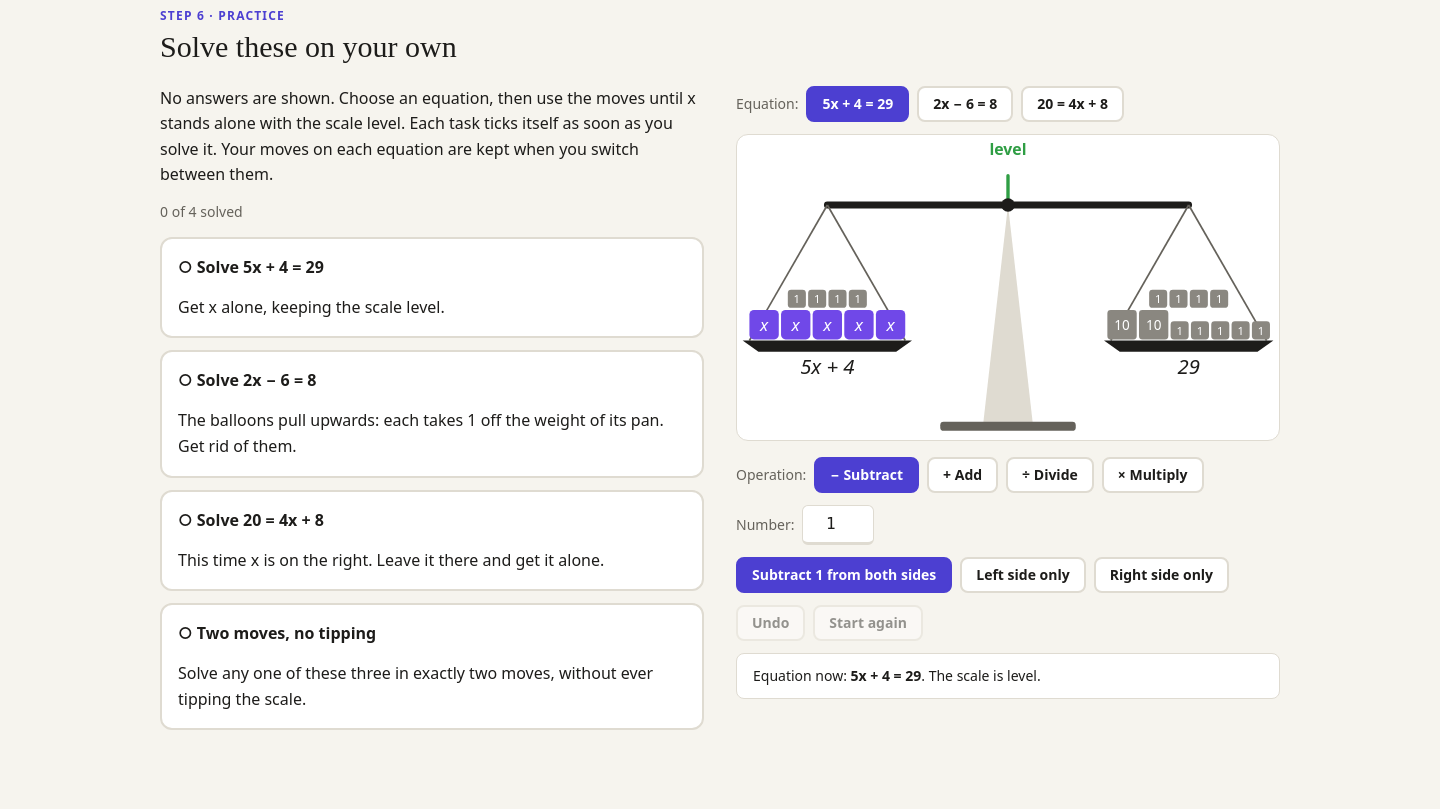
Test: Variables and equations lesson › ticks a practice challenge from the live equation
(page scrolled)
Check: the text "0 of 4 solved" is shown, box x1=160 y1=202 x2=243 y2=221
Step 1. Replace the text in the number field named "Practice: amount" with "4" → (838, 524), box x1=802 y1=504 x2=874 y2=544
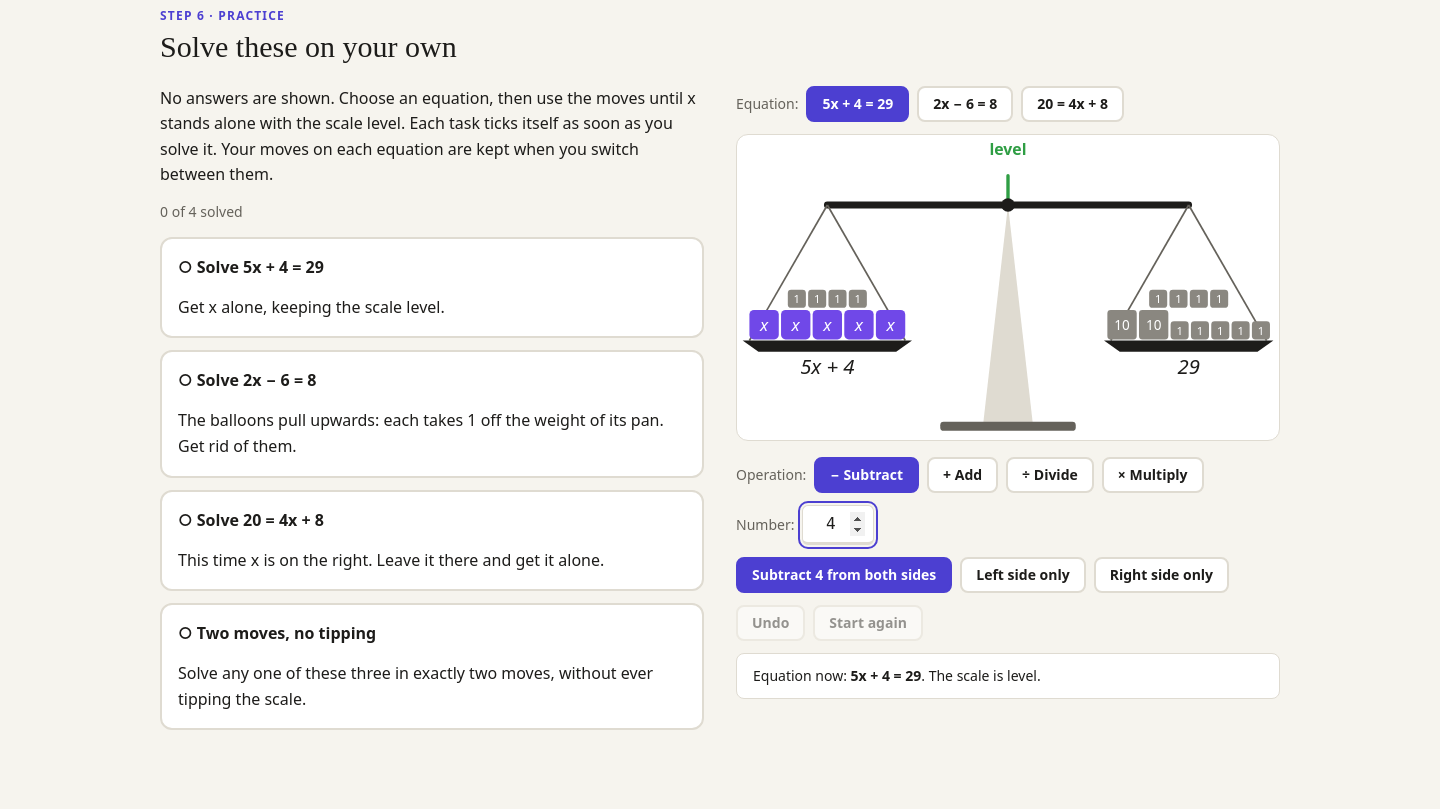
Step 2. Click the button "Subtract 4 from both sides" → (844, 574), box x1=736 y1=556 x2=952 y2=592
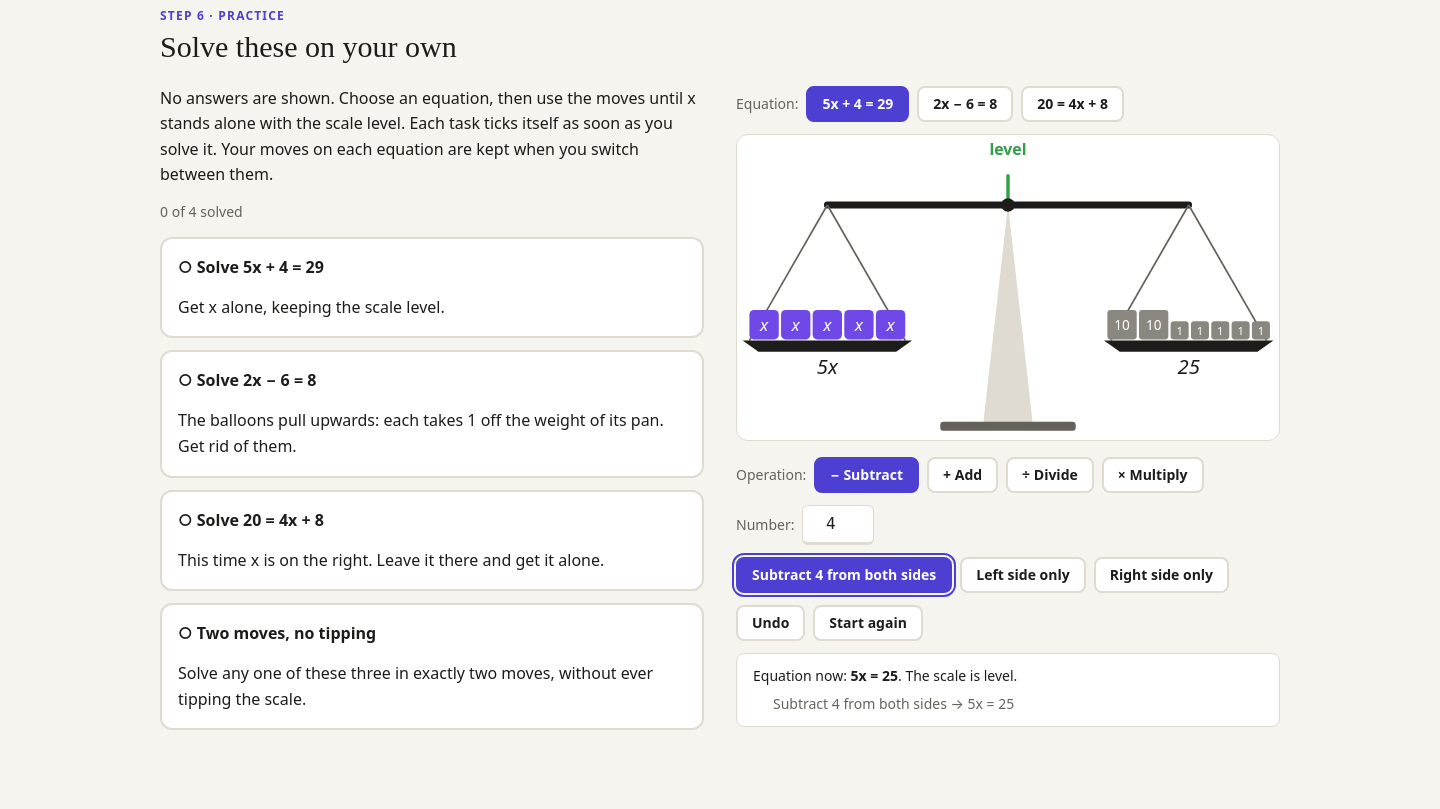
Step 3. Click the button "÷ Divide" → (1050, 474), box x1=1006 y1=456 x2=1094 y2=492
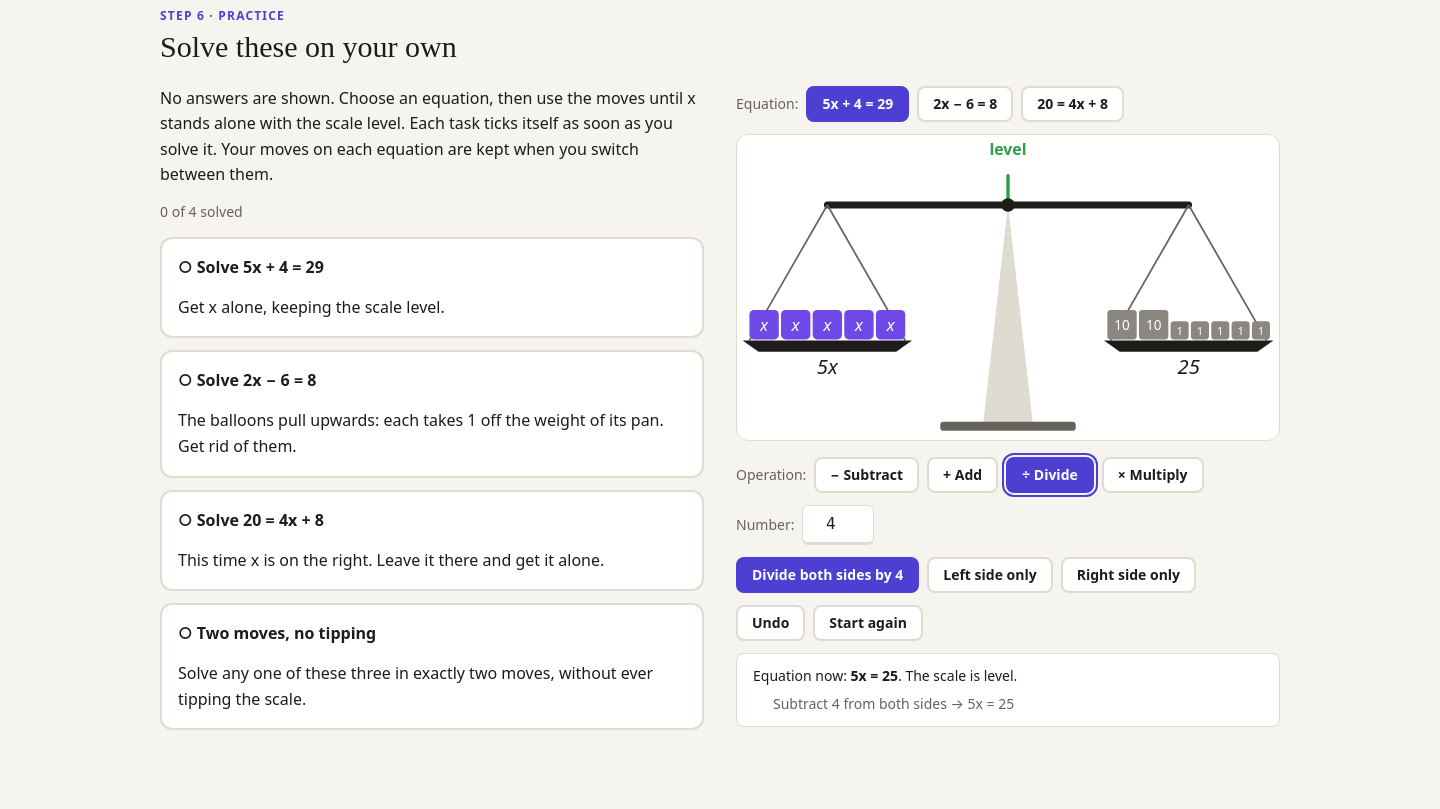
Step 4. Replace the text in the number field named "Practice: amount" with "5" → (838, 524), box x1=802 y1=504 x2=874 y2=544
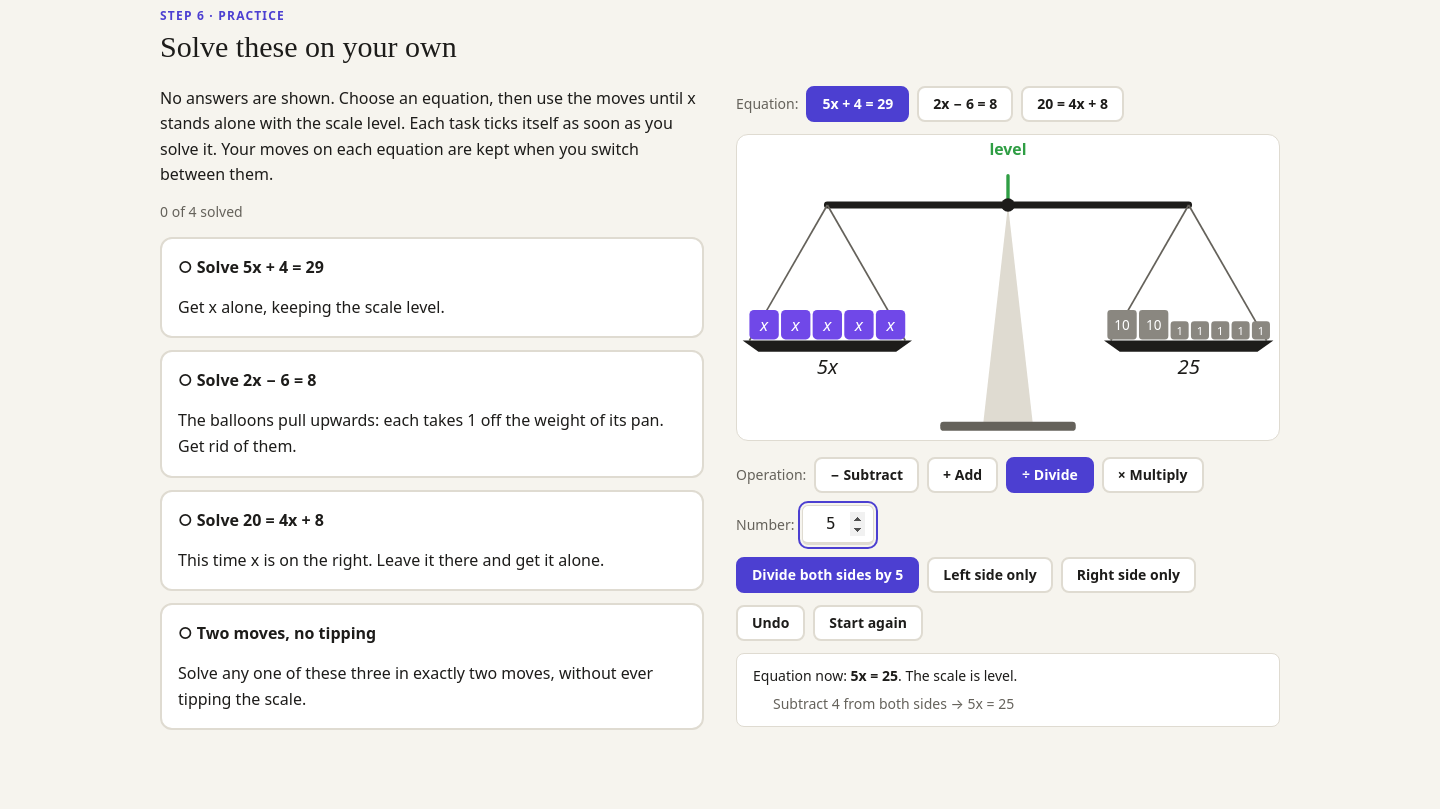
Step 5. Click the button "Divide both sides by 5" → (828, 574), box x1=736 y1=556 x2=919 y2=592
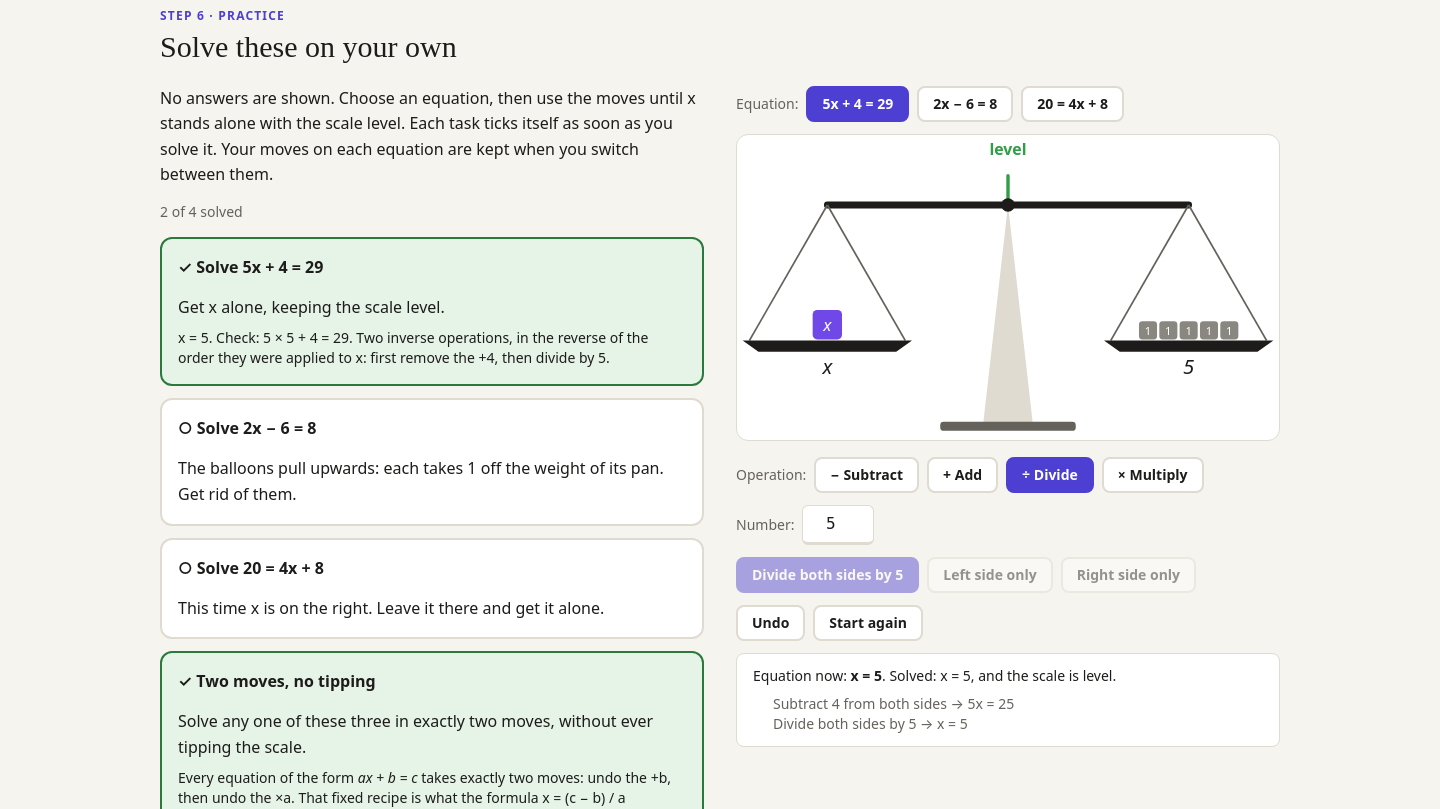
Check: the text "2 of 4 solved" is shown, box x1=160 y1=202 x2=243 y2=221
